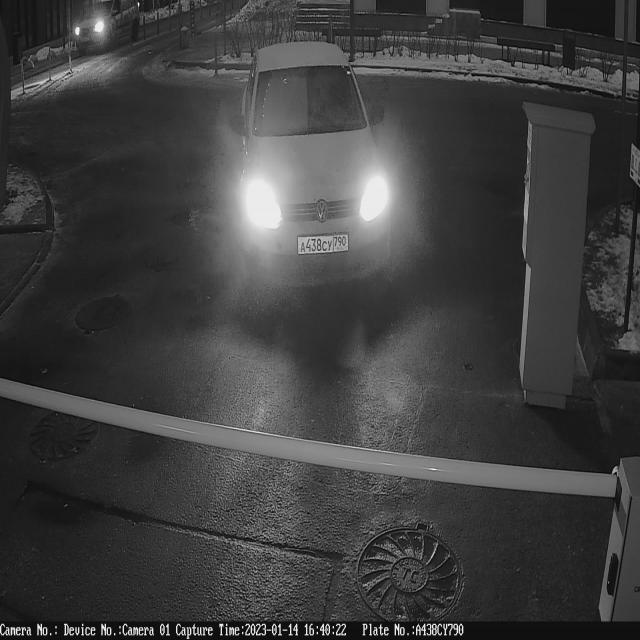car-plate-numbers: (296, 232, 354, 264)
